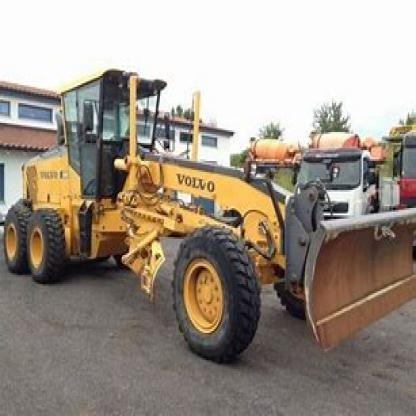bull_dozer/loader/grader: (1, 56, 320, 356)
